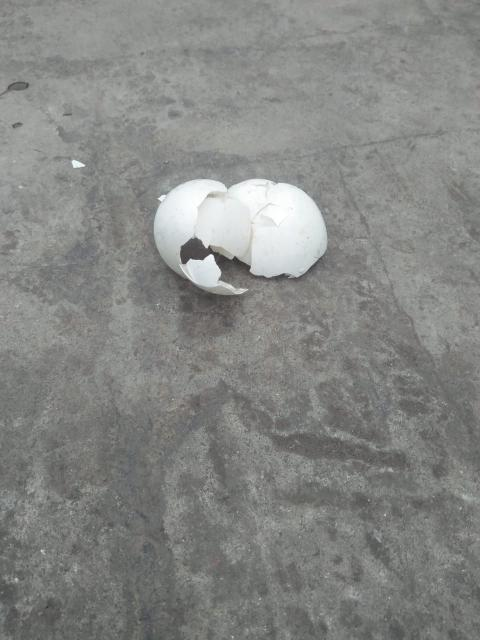Roto: (154, 176, 329, 297)
